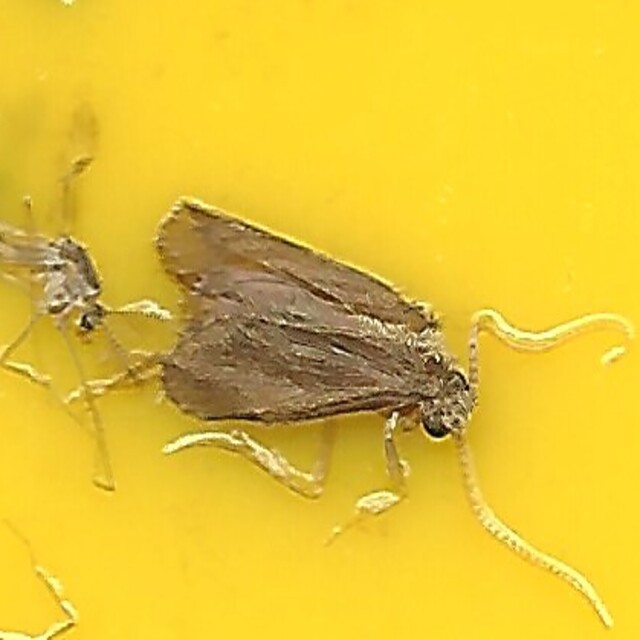Trichoptera: (153, 189, 487, 451)
